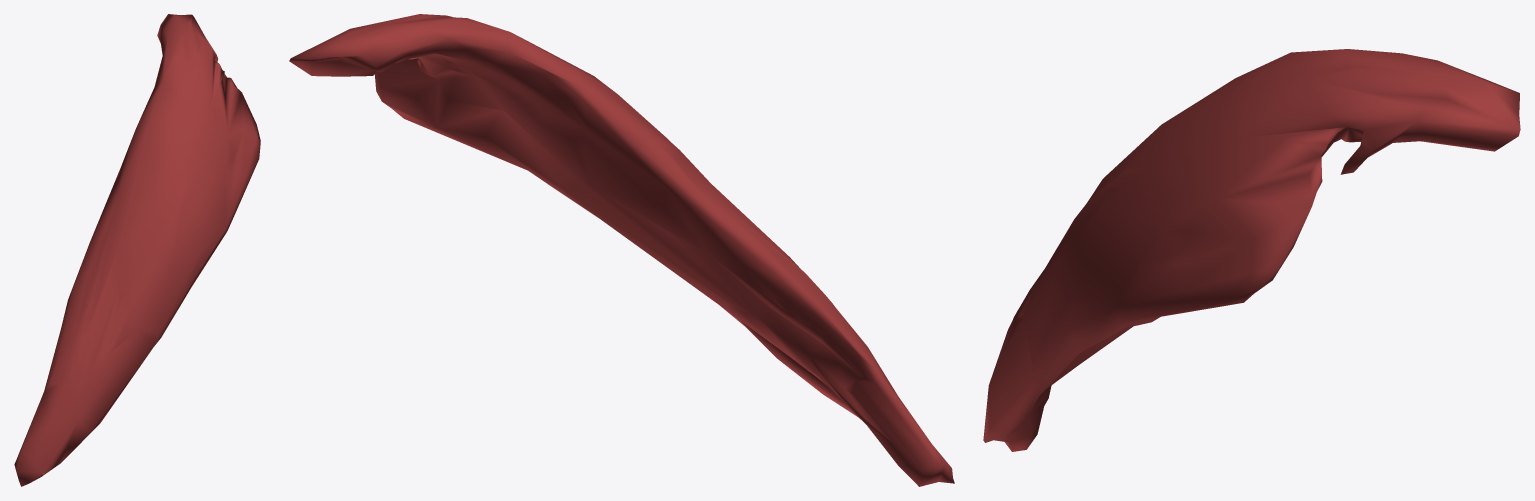
The model's file is abductor-pollicis-brevis-r.glb.
The picture shows the model from 3 angles, left to right: view 1: azimuth 30°, elevation 25°; view 2: azimuth 150°, elevation 25°; view 3: azimuth 270°, elevation 25°; orthographic projection. The views are drawn at different scales.
Parts seen in each view (by area): view 1: Abductor pollicis brevis.r; view 2: Abductor pollicis brevis.r; view 3: Abductor pollicis brevis.r.
Part boxes in pixels (box(x1,y1,x2,y2)): Abductor pollicis brevis.r: box(14, 14, 260, 486); Abductor pollicis brevis.r: box(289, 14, 954, 486); Abductor pollicis brevis.r: box(983, 49, 1520, 451).
Size of the model in its own units: 0.0407 by 0.0395 by 0.0306.
